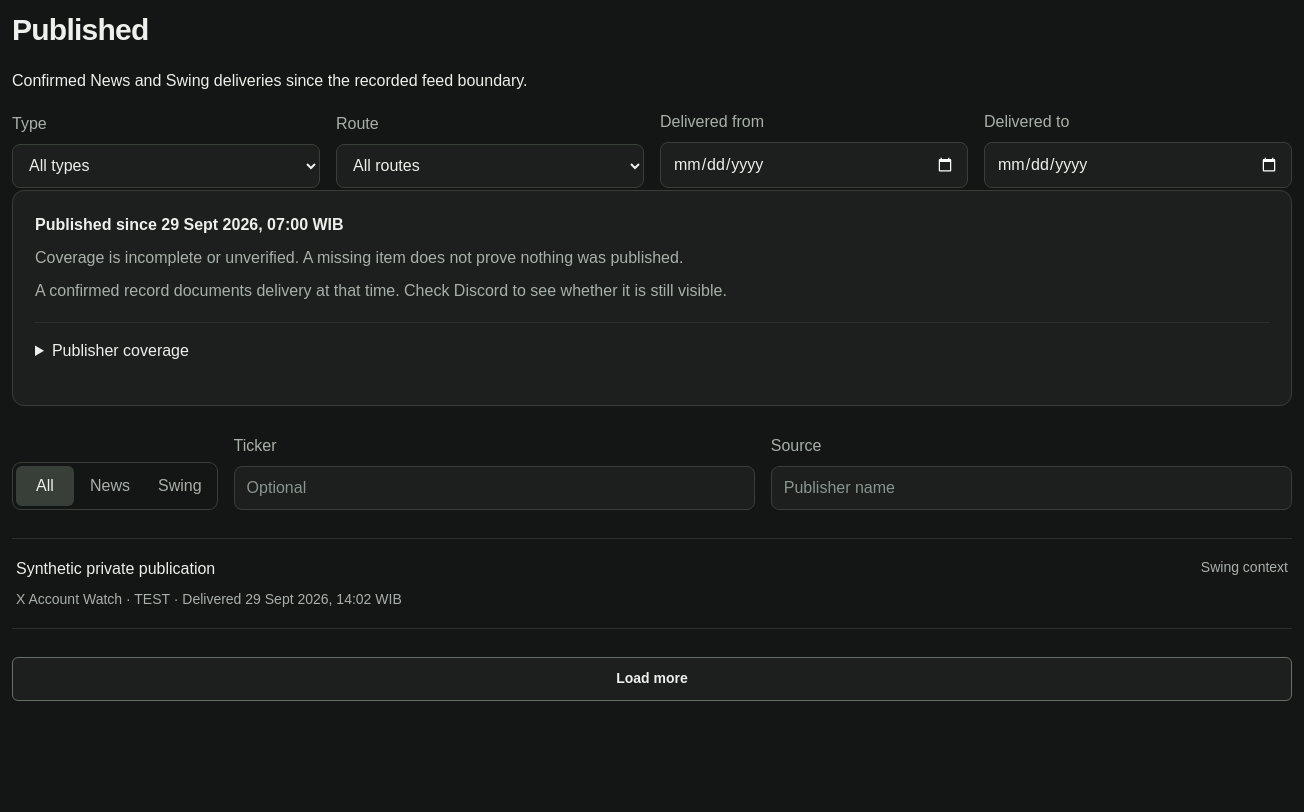
preserves loaded records and coverage on a transient pagination failure
The image size is (1304, 812).
Expected: the text "Synthetic private publication" is shown, [16,557,215,581]
Click the button "Load more": coordinates (652, 679) [12,657,1292,701]
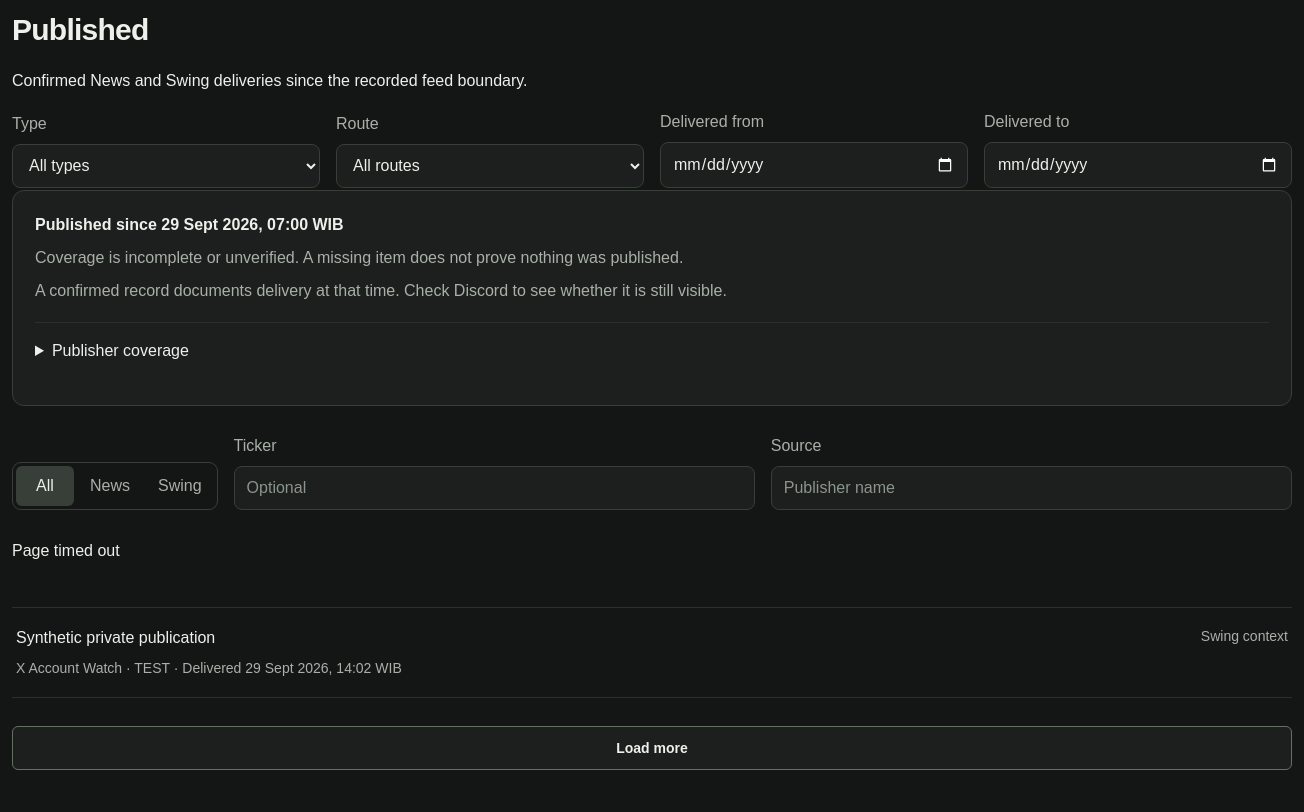
Expected: the text "Synthetic private publication" is shown, [16,626,215,650]
Now the text "Page timed out" is shown, box [12,542,120,559]
